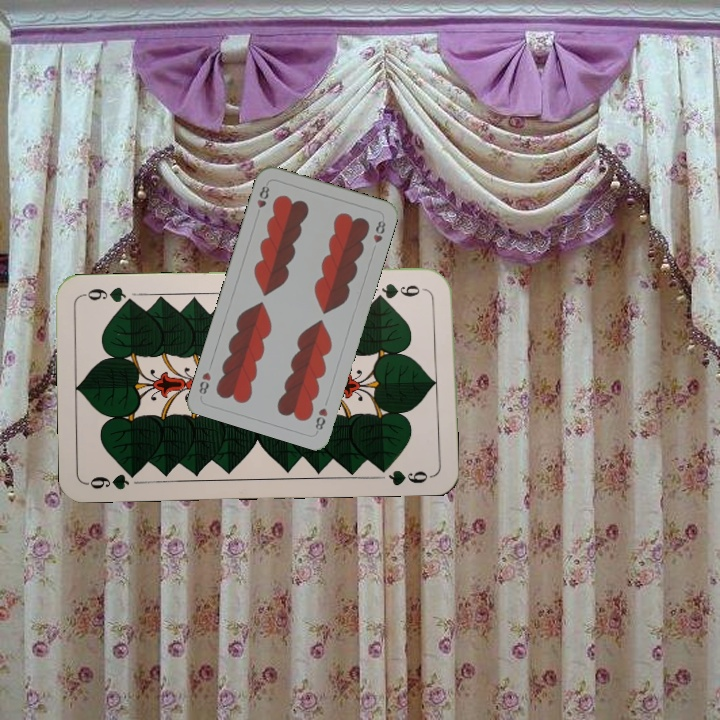G9: (83, 466, 142, 492), (370, 280, 423, 302)
H8: (252, 181, 272, 219), (311, 404, 330, 435)
